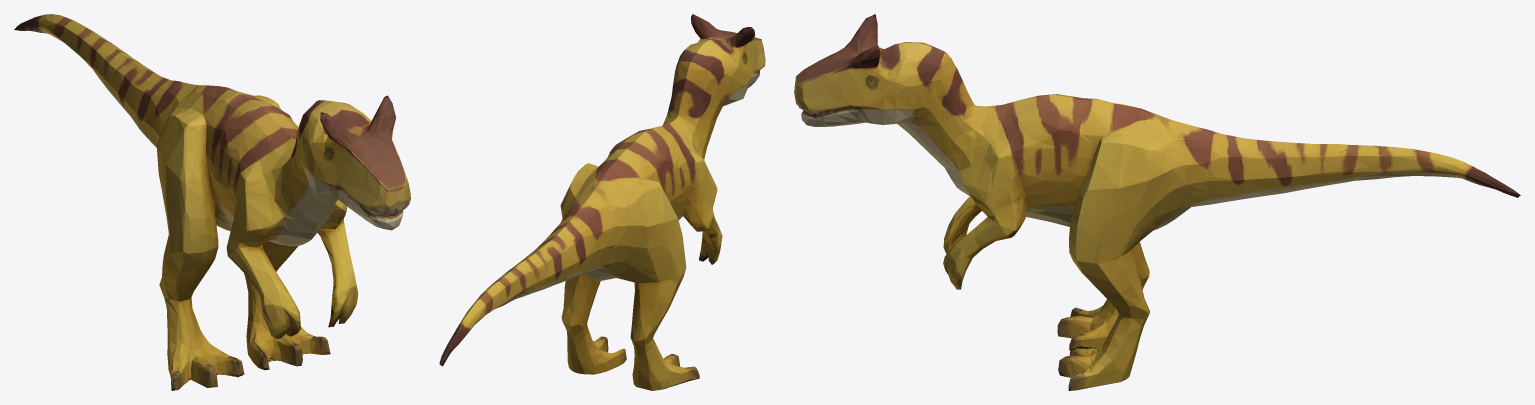
Rendered from allosaurus.glb.
3 renders of one model, left to right at view 1: azimuth 30°, elevation 25°; view 2: azimuth 150°, elevation 25°; view 3: azimuth 270°, elevation 25°, orthographic. The views are drawn at different scales.
Parts seen in each view (by area): view 1: geometry_0; view 2: geometry_0; view 3: geometry_0.
Boxes of the visible parts, box(x1,y1,x2,y2) form: geometry_0: box(14, 14, 410, 390); geometry_0: box(439, 14, 765, 390); geometry_0: box(794, 14, 1520, 390).
Bounding box in the file's own units: 0.2353 × 0.4954 × 0.9993.
Materials: 1 (1 with a texture image).
